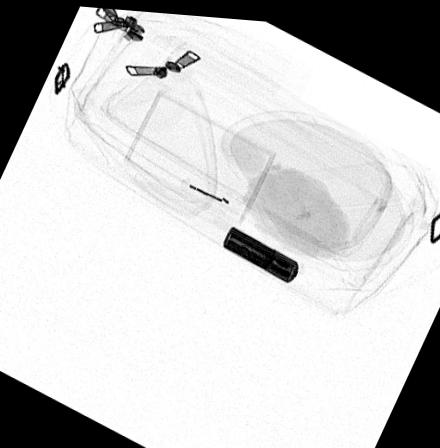Lighter: (222, 220, 297, 278)
